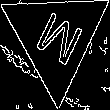M_SW: (28, 5, 85, 71)
